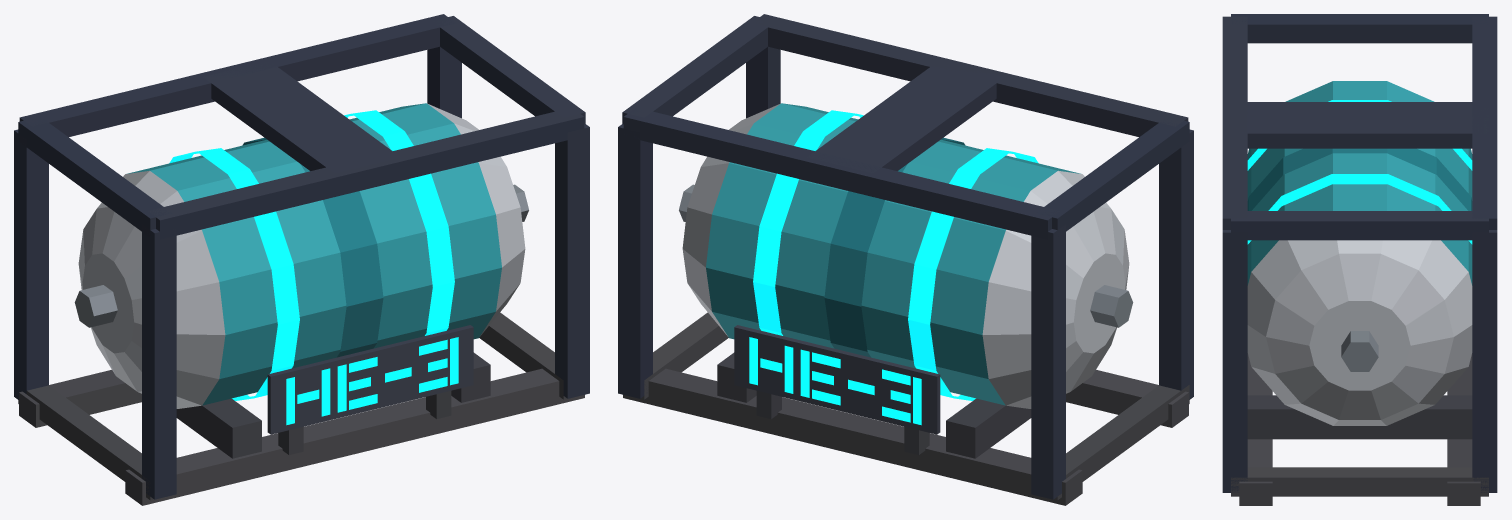
The model's file is he3_crate_lbl_cfc95657.glb.
3 views of the same model, side by side, from view 1: azimuth 30°, elevation 25°; view 2: azimuth 150°, elevation 25°; view 3: azimuth 270°, elevation 25° (orthographic). The views are drawn at different scales.
Parts seen in each view (by area): view 1: CargoCrate_He3_Mesh; view 2: CargoCrate_He3_Mesh; view 3: CargoCrate_He3_Mesh.
Boxes of the visible parts, bbox=[...] form: CargoCrate_He3_Mesh: bbox=[14, 14, 589, 505]; CargoCrate_He3_Mesh: bbox=[618, 14, 1193, 505]; CargoCrate_He3_Mesh: bbox=[1222, 14, 1497, 505].
Bounding box in the file's own units: 2.4 × 1.5 × 1.32.
